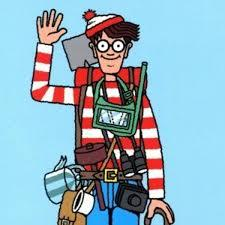waldo: (74, 4, 146, 81)
